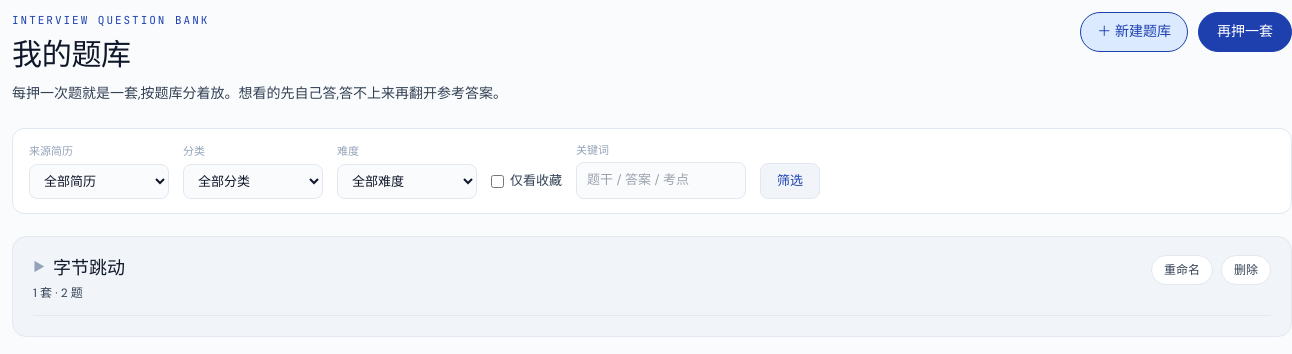
it: QuestionBank · 题库管理 › 重命名题库:回写接口并更新块头
The width and height of the screenshot is (1292, 354).
Click the button "重命名": coordinates (1182, 270) [1151,255,1213,285]
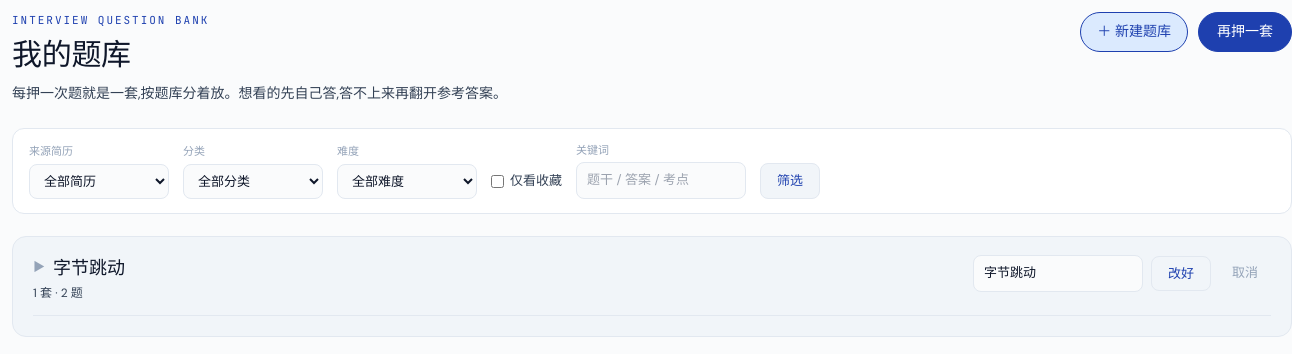
Replace the text in the field named "题库名" with "字节跳动 · 后端": coordinates (1058, 273) [973,255,1143,292]
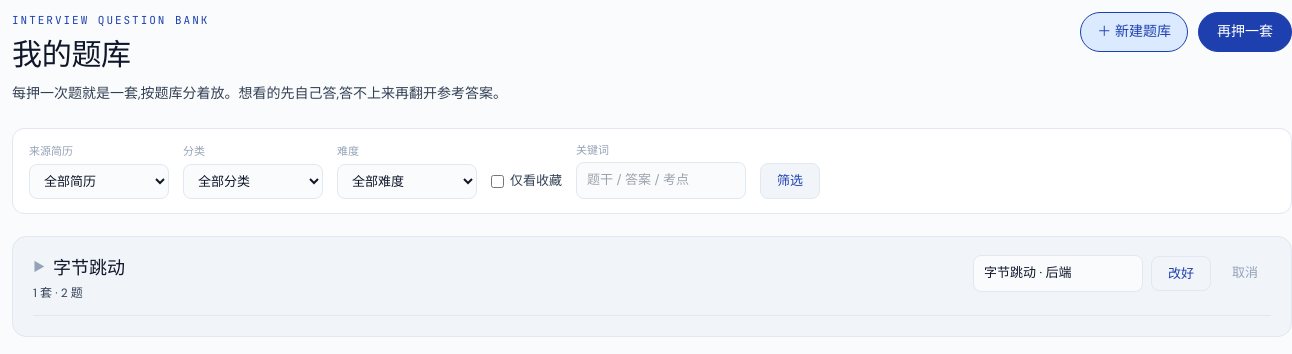
Click the button "改好": coordinates (1181, 273) [1151,256,1211,291]
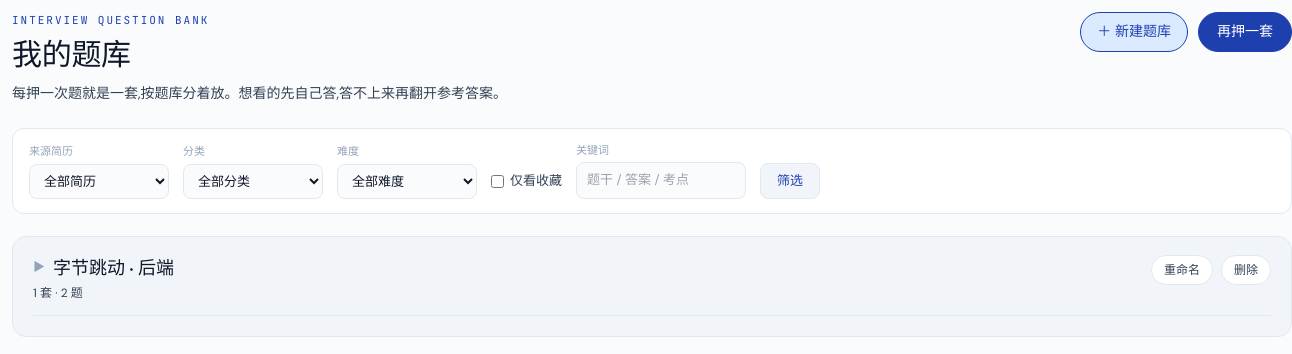
Now the heading "▶ 字节跳动 · 后端" is shown, box [33,255,174,280]
